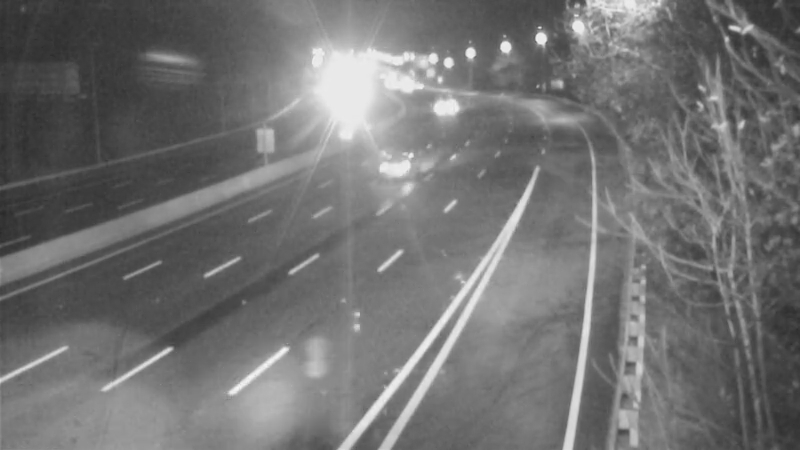vehicle: (356, 129, 436, 209), (416, 83, 466, 133), (319, 78, 369, 128)
